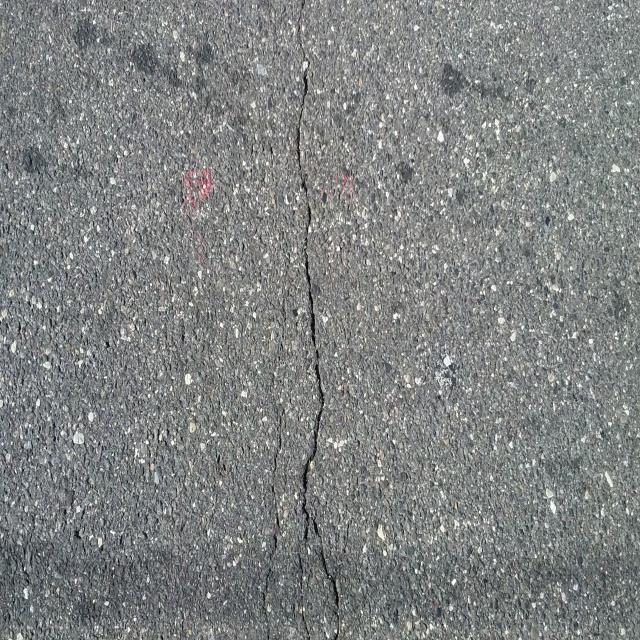Crack: (295, 0, 341, 640), (260, 414, 284, 640), (297, 555, 312, 640)
